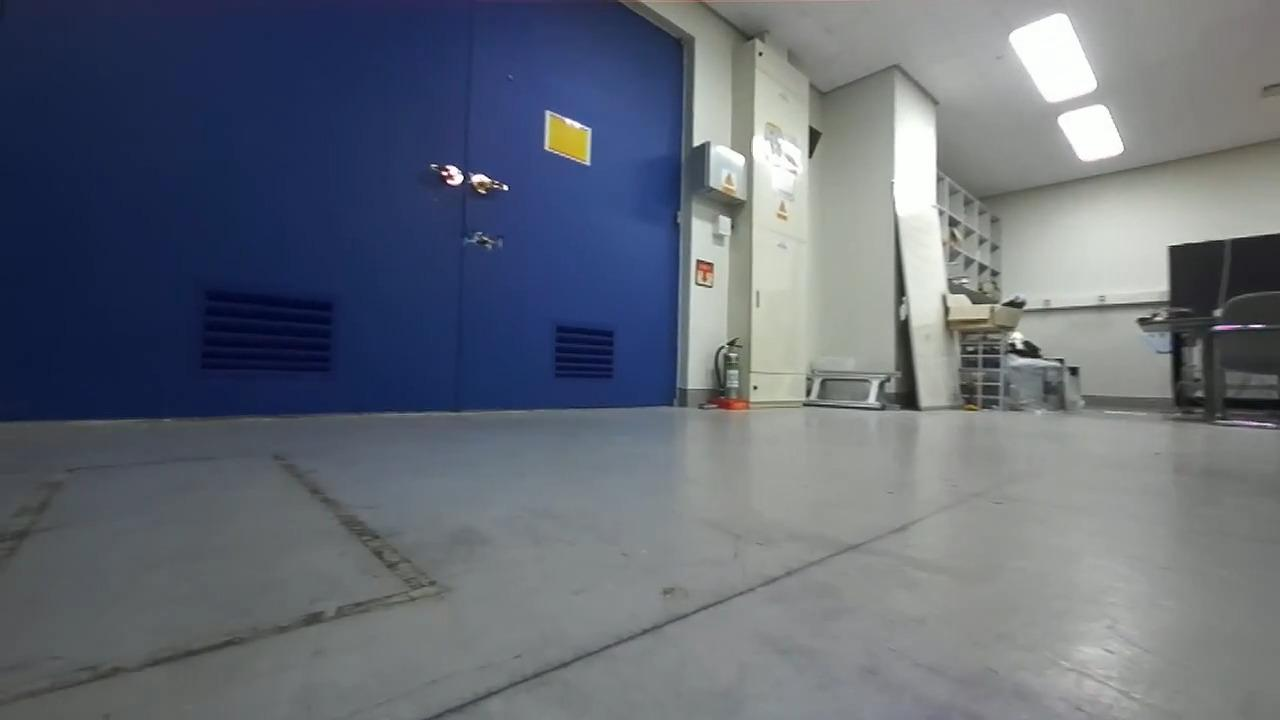crazyflie: (453, 224, 511, 258)
